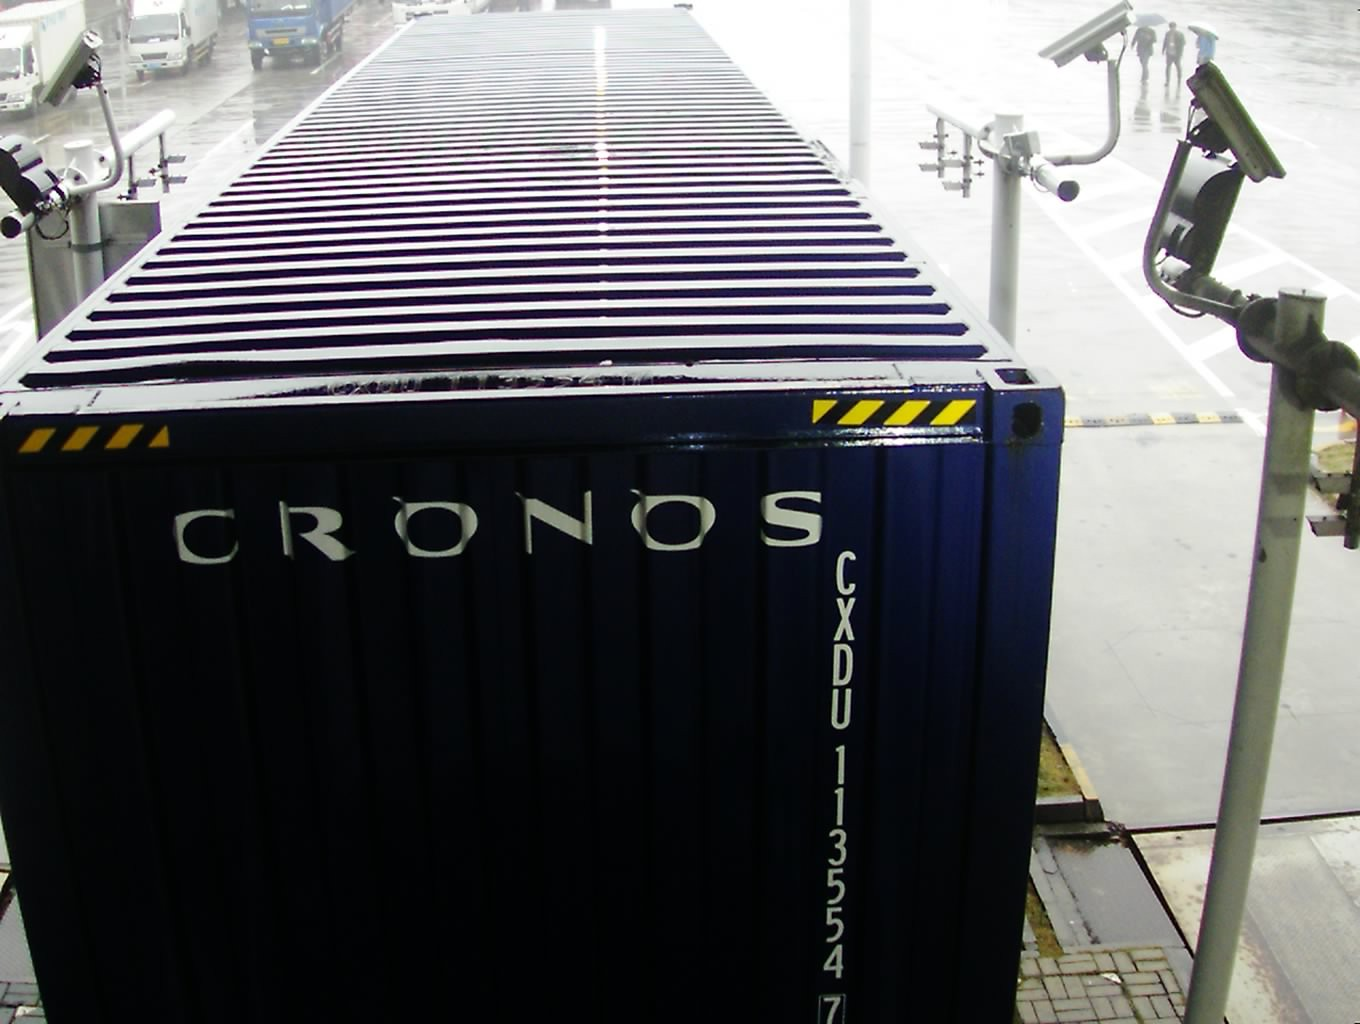words: (808, 541, 867, 1024)
